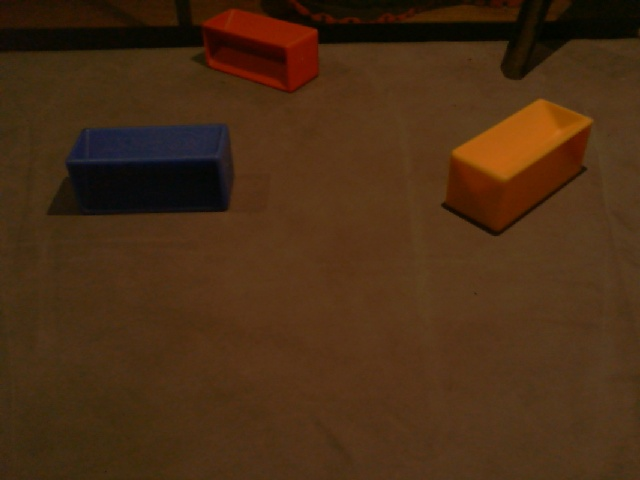BlueSample: (59, 125, 239, 213)
RedSample: (197, 8, 322, 96)
YellowSample: (444, 95, 597, 236)
